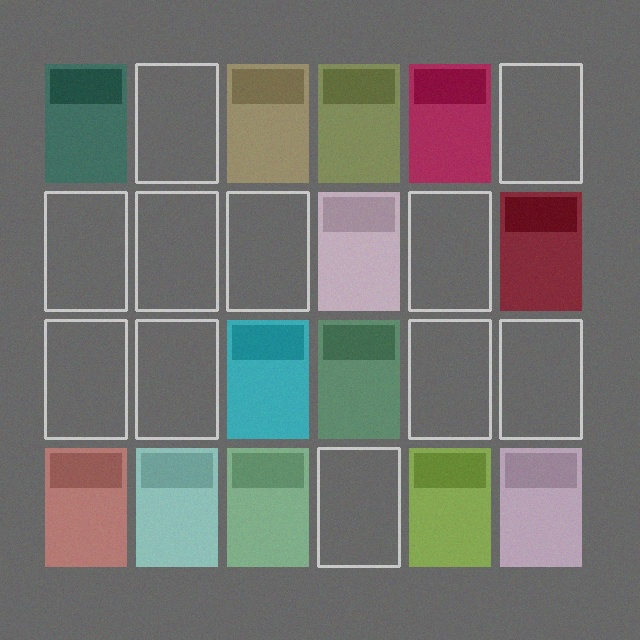space-empty: (136, 64, 217, 182), (500, 64, 581, 182), (45, 192, 126, 310), (136, 192, 217, 310), (227, 192, 308, 310), (409, 192, 490, 310), (45, 320, 126, 438), (136, 320, 217, 438), (409, 320, 490, 438), (500, 320, 581, 438), (318, 448, 399, 566)
space-occupied: (45, 64, 126, 182), (227, 64, 308, 182), (318, 64, 399, 182), (409, 64, 490, 182), (318, 192, 399, 310), (500, 192, 581, 310), (227, 320, 308, 438), (318, 320, 399, 438), (45, 448, 126, 566), (136, 448, 217, 566), (227, 448, 308, 566), (409, 448, 490, 566), (500, 448, 581, 566)
